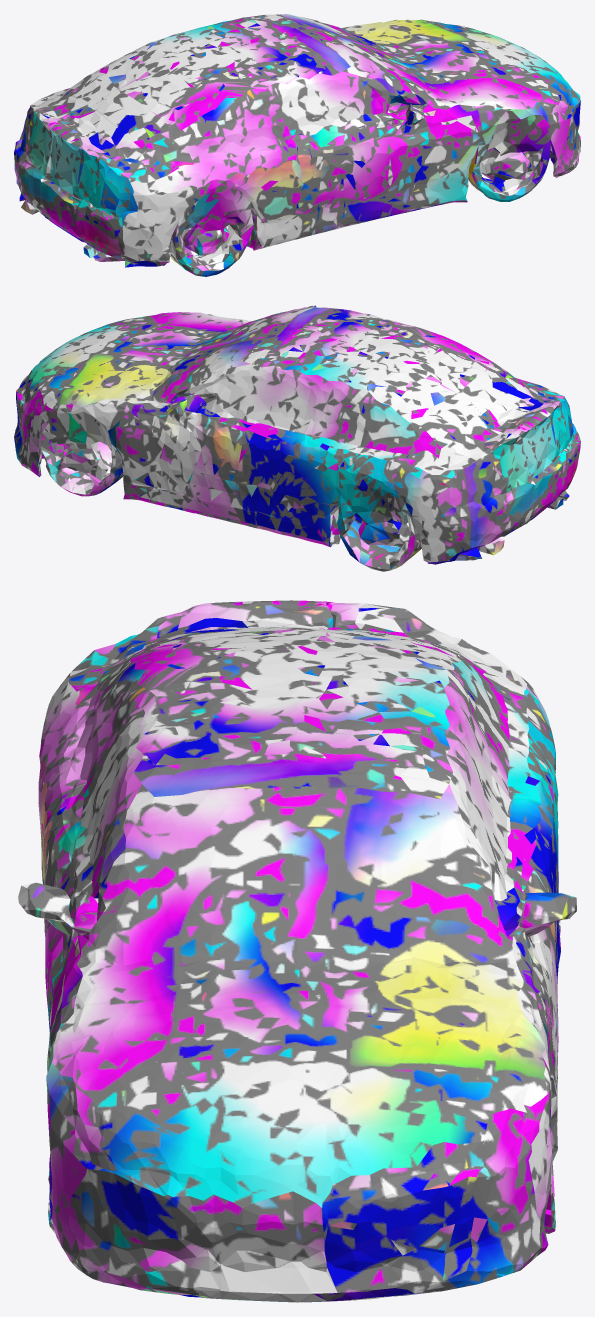
The picture shows the model from 3 angles, top to bottom: view 1: azimuth 30°, elevation 25°; view 2: azimuth 150°, elevation 25°; view 3: azimuth 270°, elevation 25°; orthographic projection. The views are drawn at different scales.
Bounding box in the file's own units: 0.8932 × 0.2719 × 0.4276.
